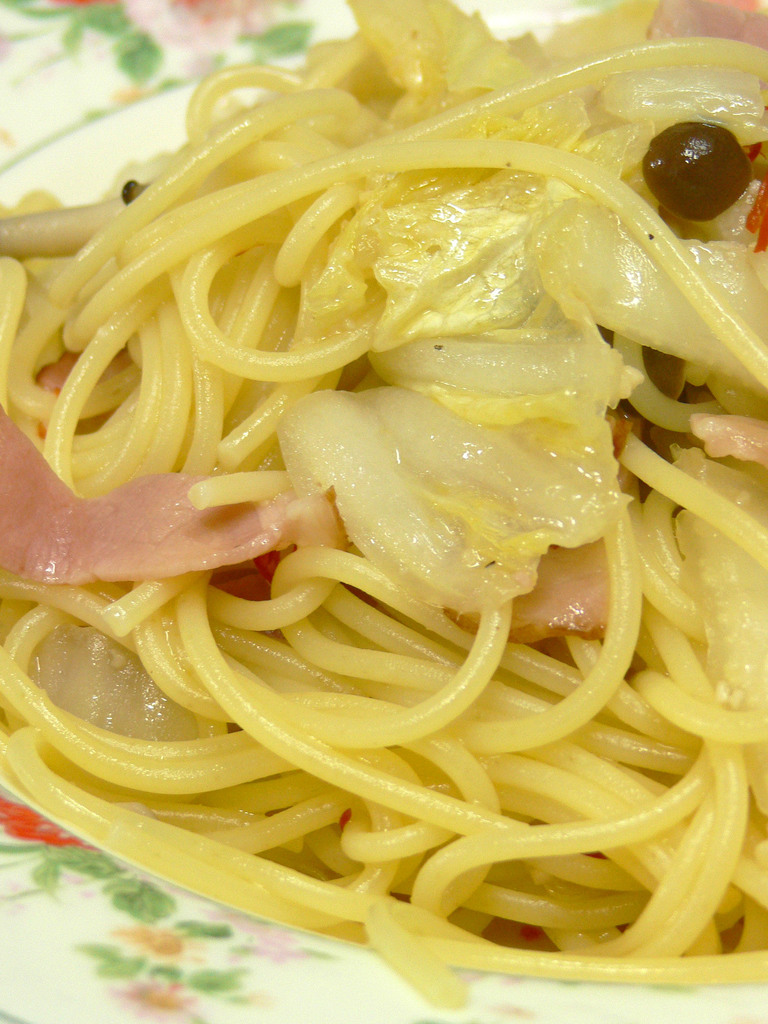pasta: (7, 0, 768, 991)
